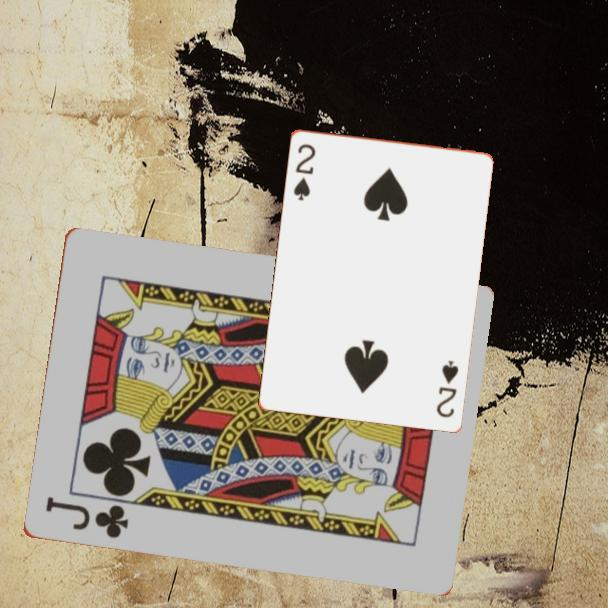c11: (41, 494, 131, 542)
s02: (432, 357, 461, 420), (290, 140, 318, 203)
